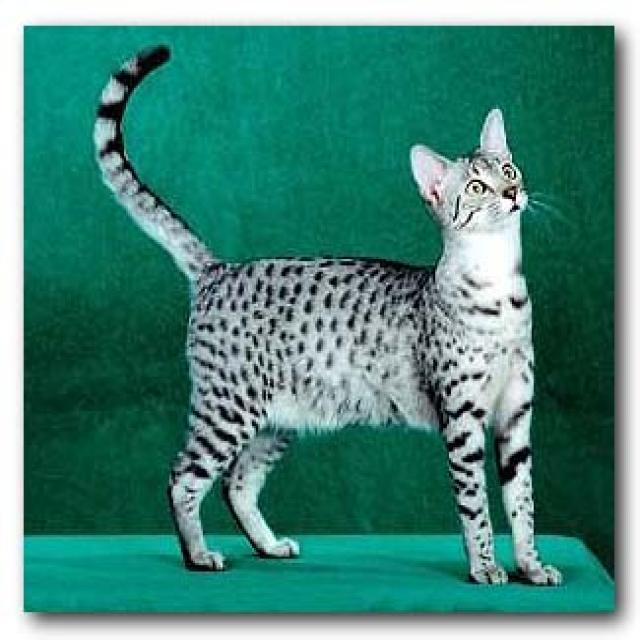Egyptian_Mau: (404, 101, 552, 256)
